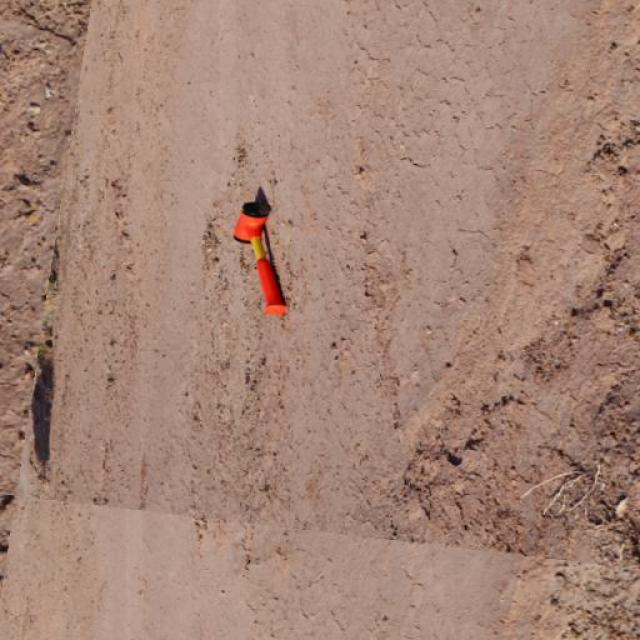mallet: (232, 185, 290, 317)
